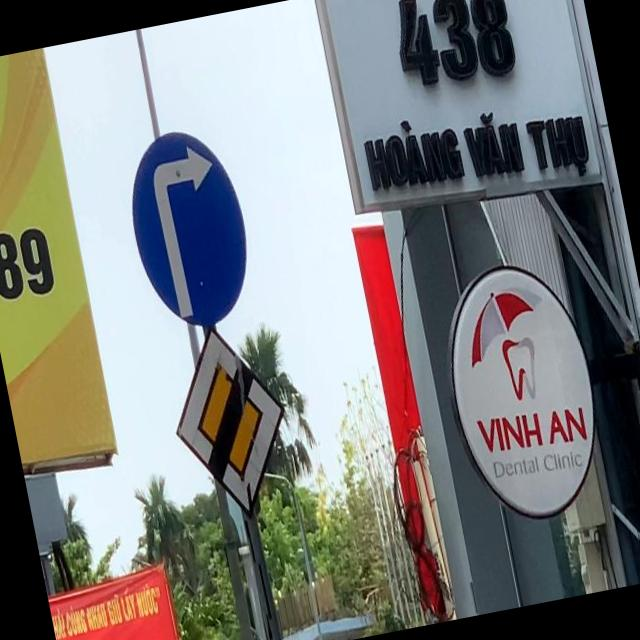R-301d: (117, 122, 260, 334)
